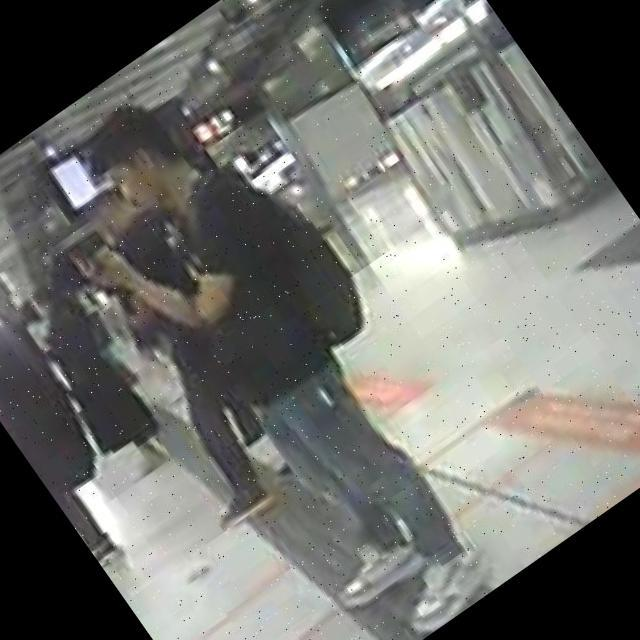person: (23, 59, 544, 640), (27, 166, 339, 532), (0, 271, 163, 570), (8, 266, 186, 484)
